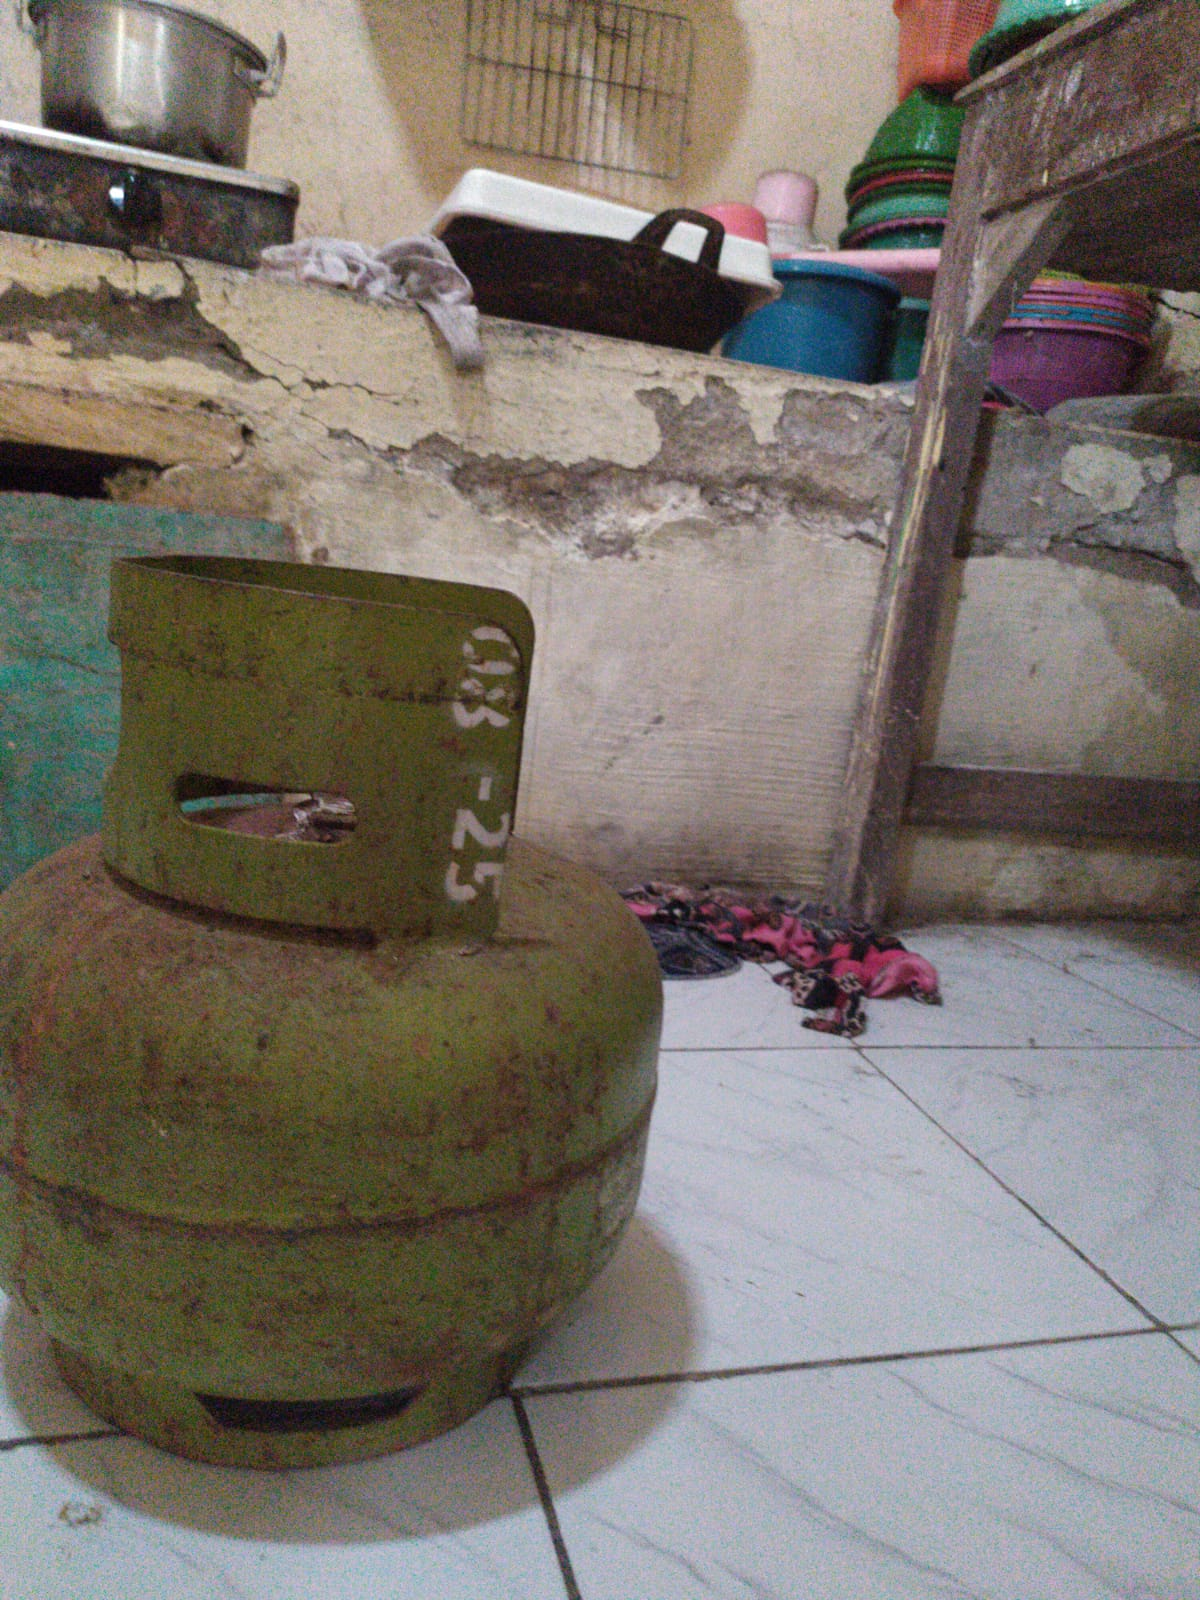gas_ijo: (1, 559, 666, 1477)
